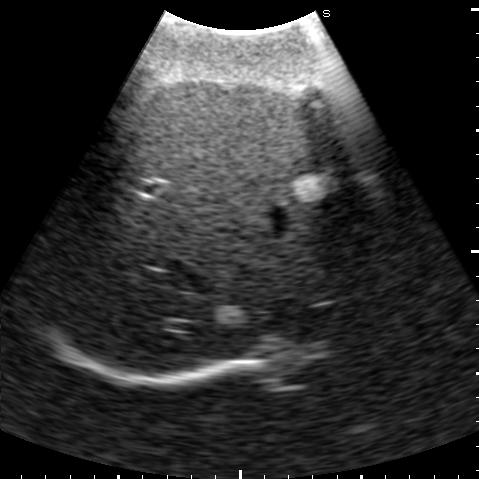S5: (114, 81, 338, 200)
S7: (42, 174, 167, 320)
S8: (104, 185, 369, 371)
Tumor: (290, 172, 338, 202), (213, 305, 246, 326)
